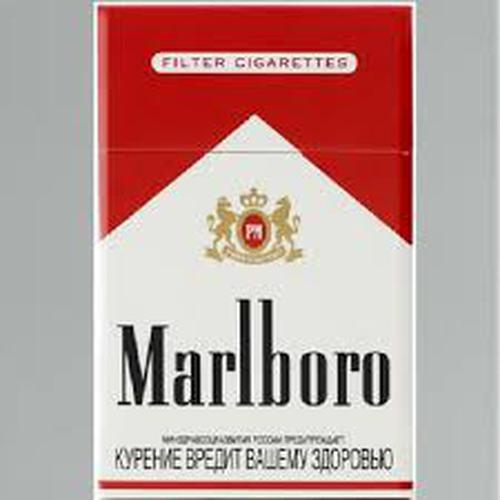marlboro: (101, 9, 407, 495)
